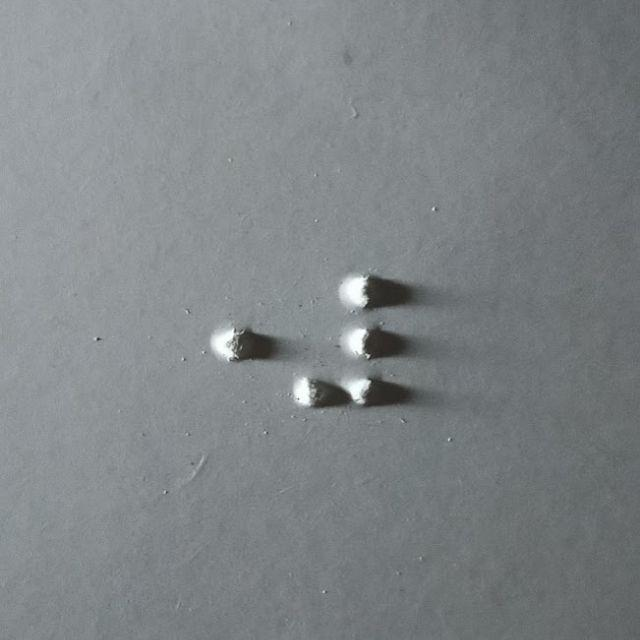bulaklak: (297, 273, 386, 408)
dot_5: (168, 273, 257, 408)
